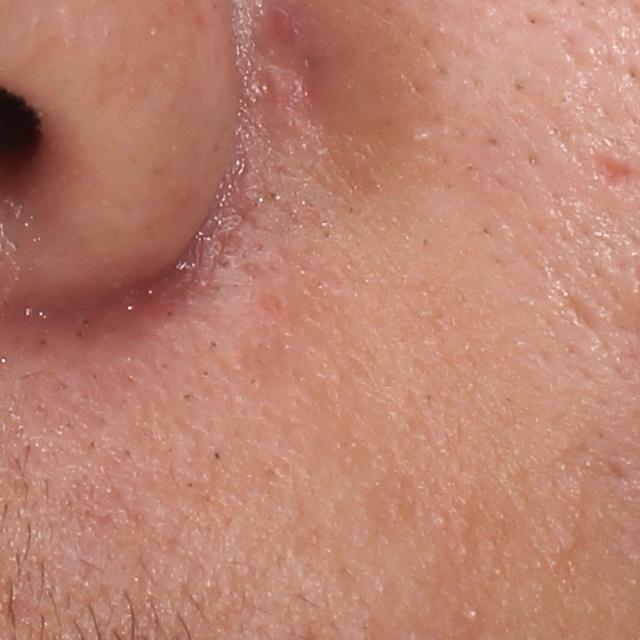atrophic_scar: (589, 156, 634, 189), (556, 292, 593, 330)
comedo: (558, 526, 588, 556), (465, 595, 487, 626)
